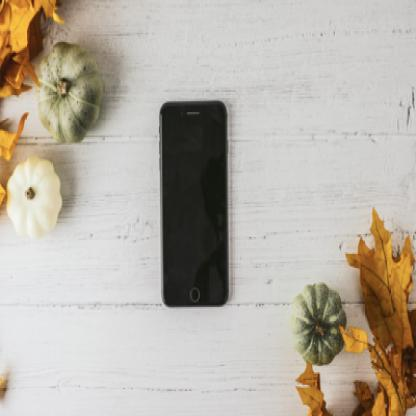cell-phone: (153, 95, 245, 318)
